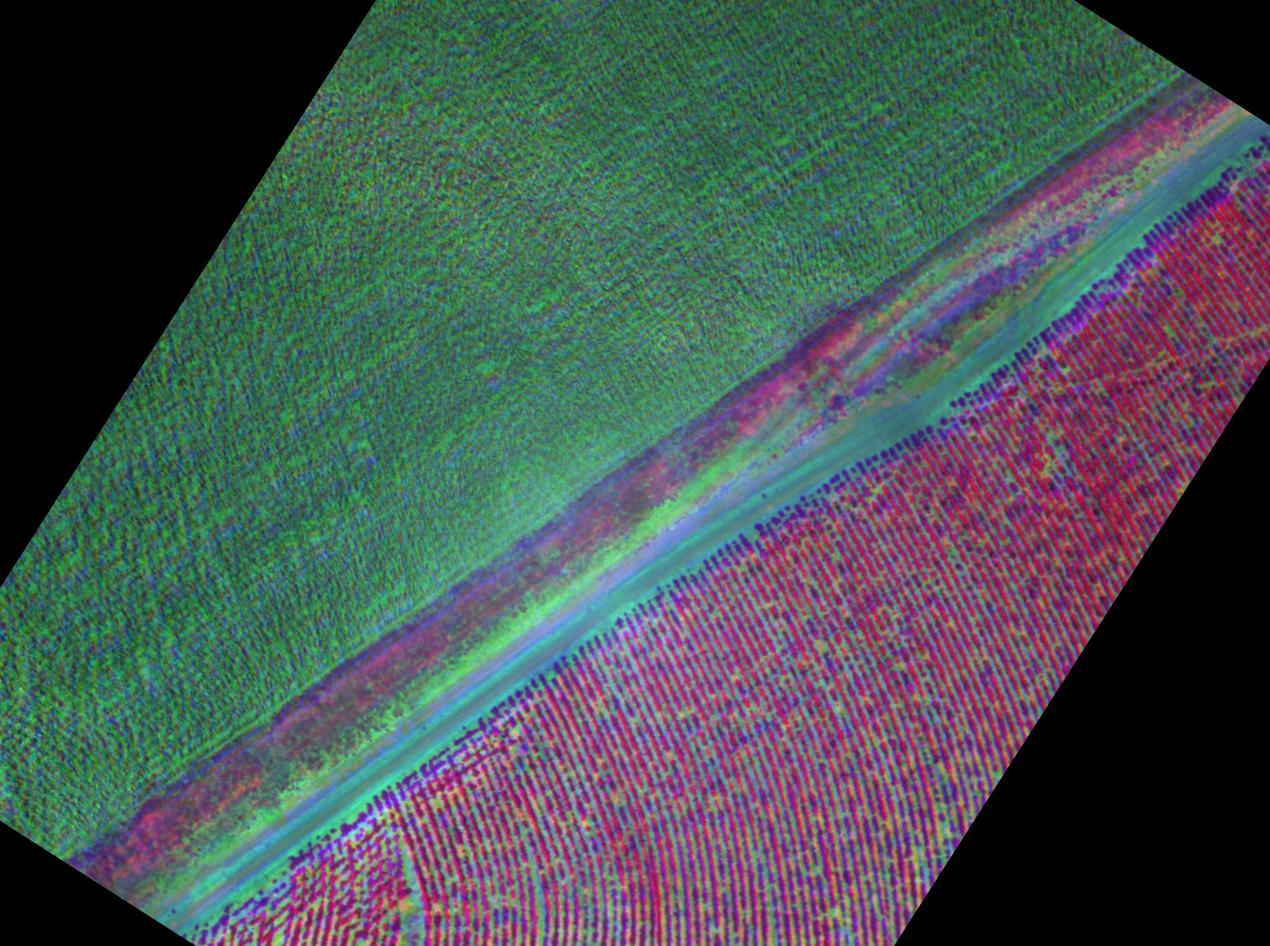dc: (363, 848, 436, 946), (501, 848, 568, 946), (826, 860, 895, 936), (591, 648, 660, 721), (228, 898, 308, 946)
